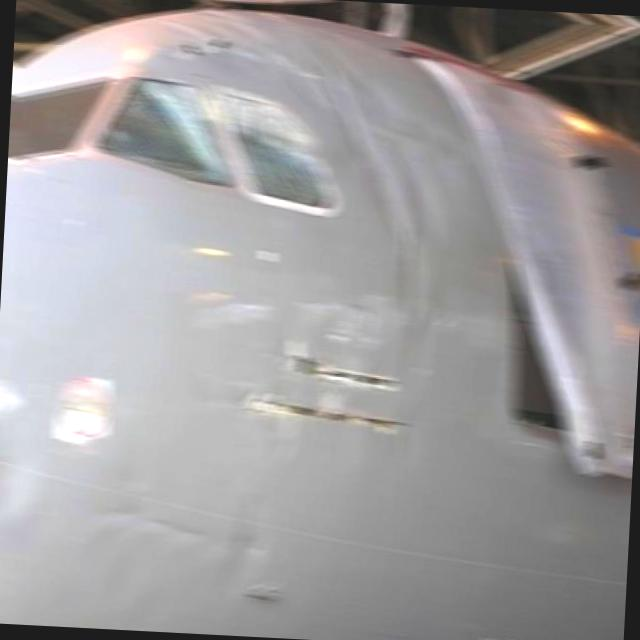crack: (229, 329, 422, 444)
